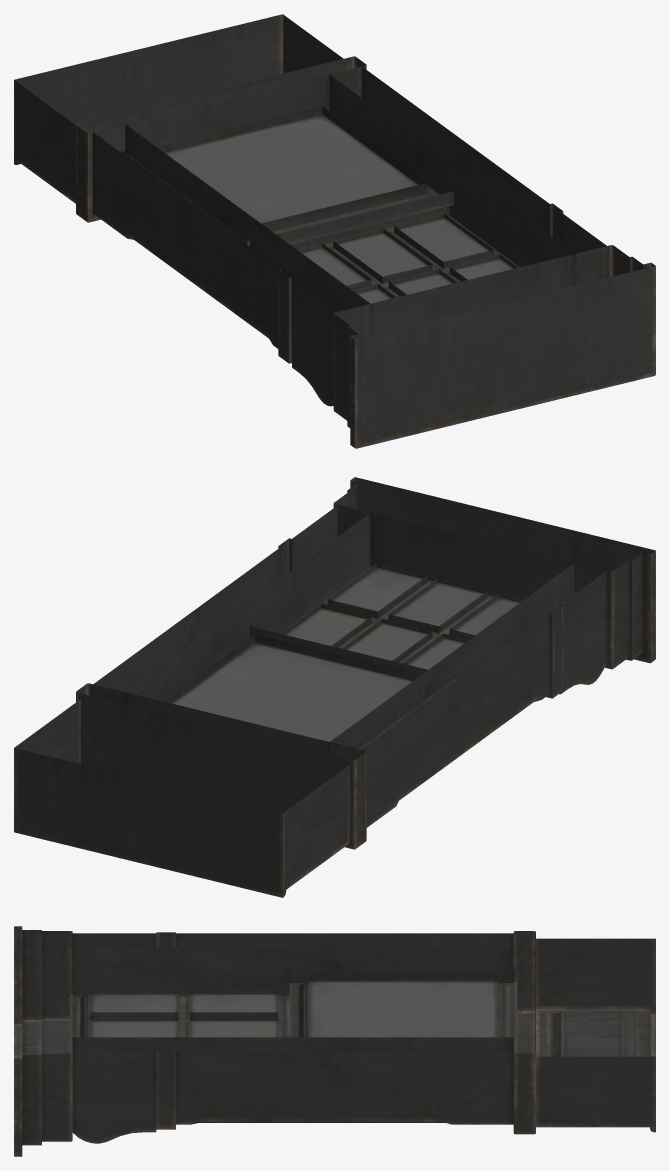
Rendered from window_centered_small_01.gltf.
The picture shows the model from 3 angles, top to bottom: view 1: azimuth 30°, elevation 25°; view 2: azimuth 150°, elevation 25°; view 3: azimuth 270°, elevation 25°; orthographic projection. The views are drawn at different scales.
Parts seen in each view (by area): view 1: window_centered_small_01; view 2: window_centered_small_01; view 3: window_centered_small_01.
Boxes of the visible parts, x1,y1,x2,y2 form: window_centered_small_01: [14, 14, 655, 448]; window_centered_small_01: [14, 477, 655, 897]; window_centered_small_01: [14, 926, 655, 1156].
Bounding box in the file's own units: 1.12 × 0.39 × 2.3.
Materials: 2 (2 with a texture image).
